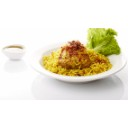briyani: (48, 46, 98, 75)
